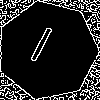I: (22, 25, 56, 72)
